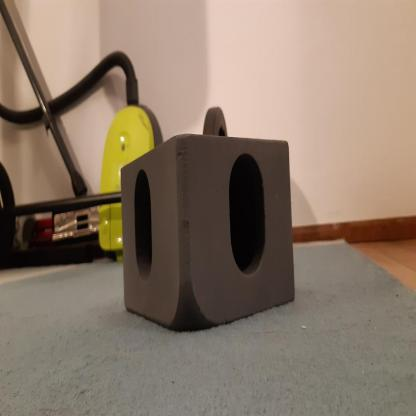CornerCasting: (119, 132, 298, 331)
